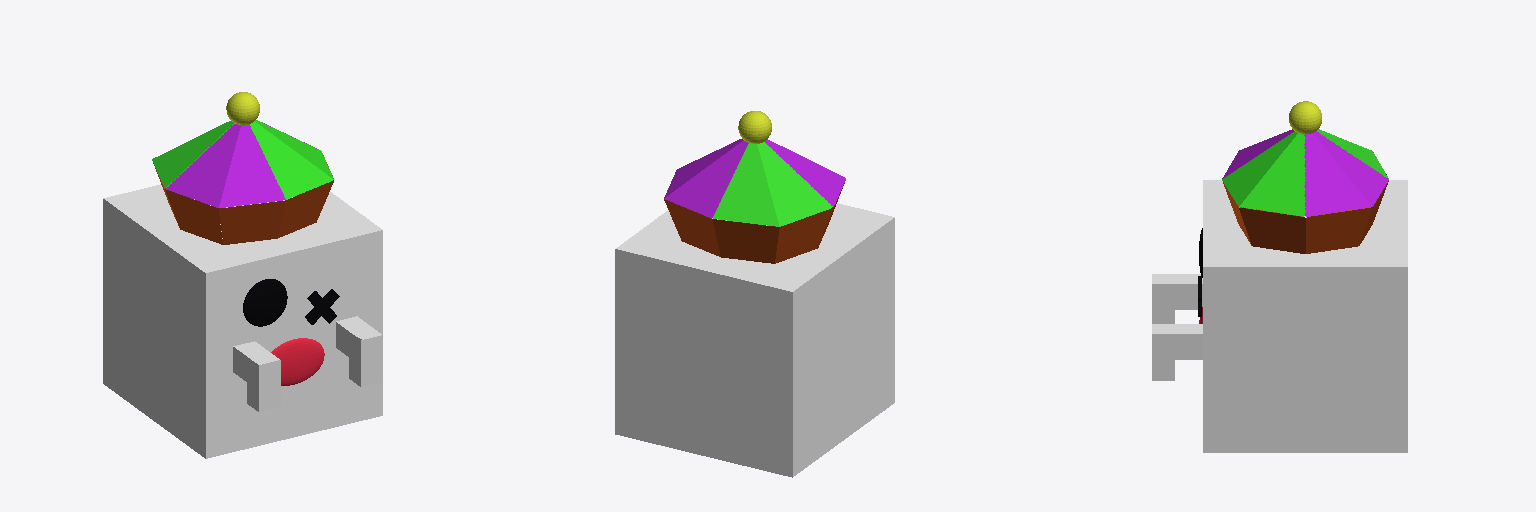
3 renders of one model, left to right at view 1: azimuth 30°, elevation 25°; view 2: azimuth 150°, elevation 25°; view 3: azimuth 270°, elevation 25°, orthographic.
Parts seen in each view (by area): view 1: 立方体.007; view 2: 立方体.007; view 3: 立方体.007.
Boxes of the visible parts, x1=… form: 立方体.007: x1=103, y1=92, x2=382, y2=458; 立方体.007: x1=615, y1=111, x2=894, y2=477; 立方体.007: x1=1152, y1=101, x2=1407, y2=452.
Bounding box in the file's own units: 2 × 3.3 × 2.5.
Materials: 1 (1 with a texture image).